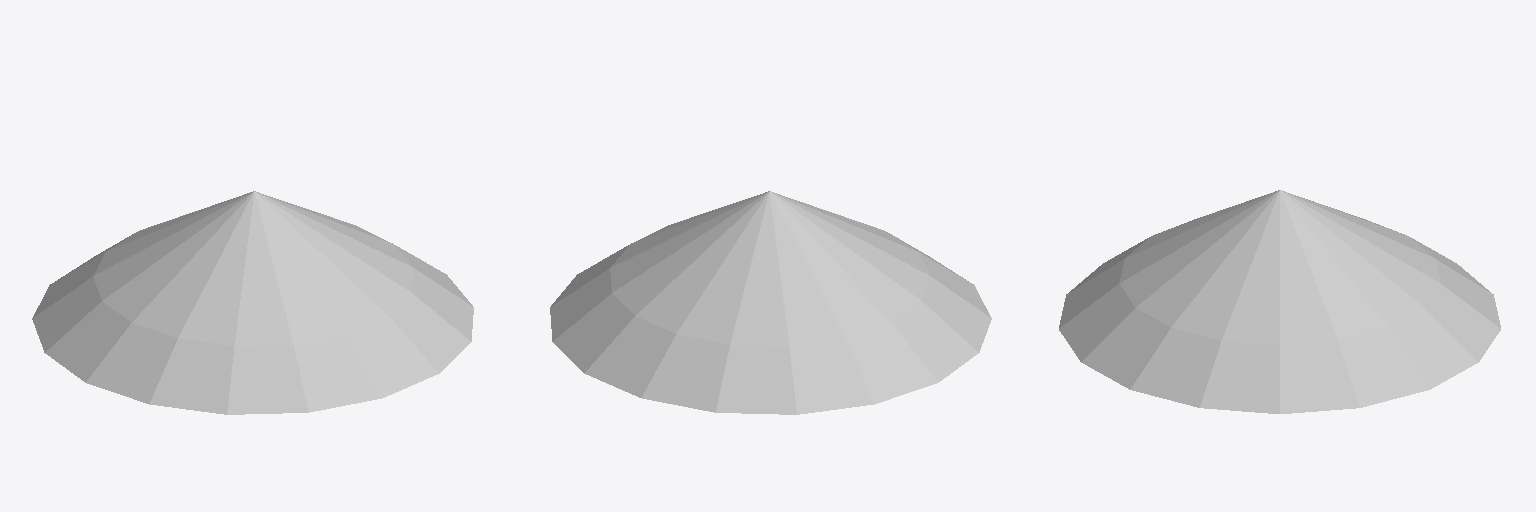
3 views of the same model, side by side, from view 1: azimuth 30°, elevation 25°; view 2: azimuth 150°, elevation 25°; view 3: azimuth 270°, elevation 25° (orthographic).
Parts seen in each view (by area): view 1: CUPIC_ROCKETSHIP; view 2: CUPIC_ROCKETSHIP; view 3: CUPIC_ROCKETSHIP.
Part boxes in pixels (bbox=[...]): CUPIC_ROCKETSHIP: bbox=[32, 191, 473, 414]; CUPIC_ROCKETSHIP: bbox=[550, 191, 991, 414]; CUPIC_ROCKETSHIP: bbox=[1059, 190, 1500, 413].
Size of the model in its own units: 7.6 by 2.48 by 7.64.